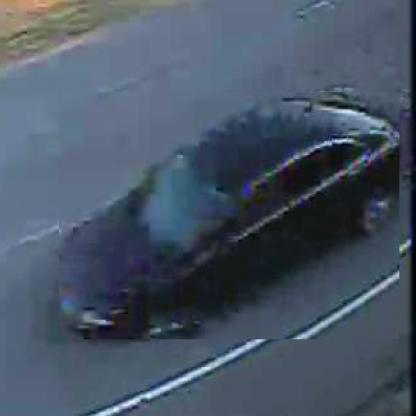car: (59, 93, 401, 342)
